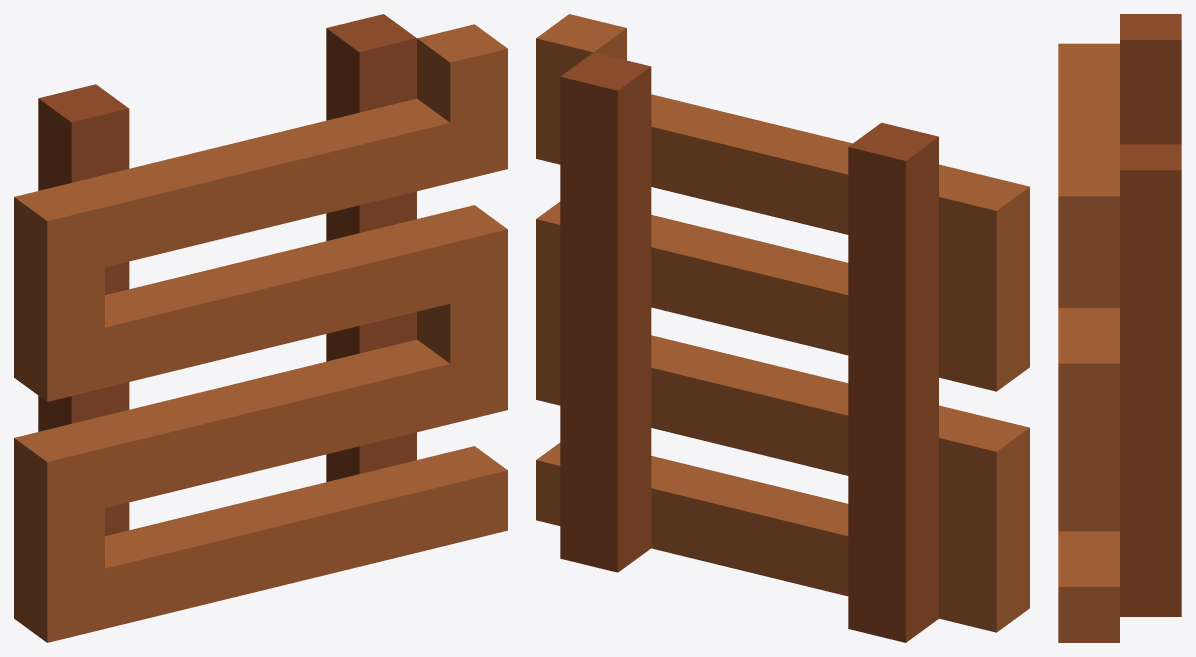
Rendered from Plum Ladder.glb.
3 renders of one model, left to right at view 1: azimuth 30°, elevation 25°; view 2: azimuth 150°, elevation 25°; view 3: azimuth 270°, elevation 25°, orthographic. The views are drawn at different scales.
Parts seen in each view (by area): view 1: Untitled; view 2: Untitled; view 3: Untitled.
Boxes of the visible parts, left/top/right/bottom form: Untitled: left=14, top=14, right=507, bottom=642; Untitled: left=536, top=14, right=1029, bottom=642; Untitled: left=1058, top=14, right=1181, bottom=642.
Bounding box in the file's own units: 0.8 × 0.8 × 0.2.
Materials: 1 (1 with a texture image).
